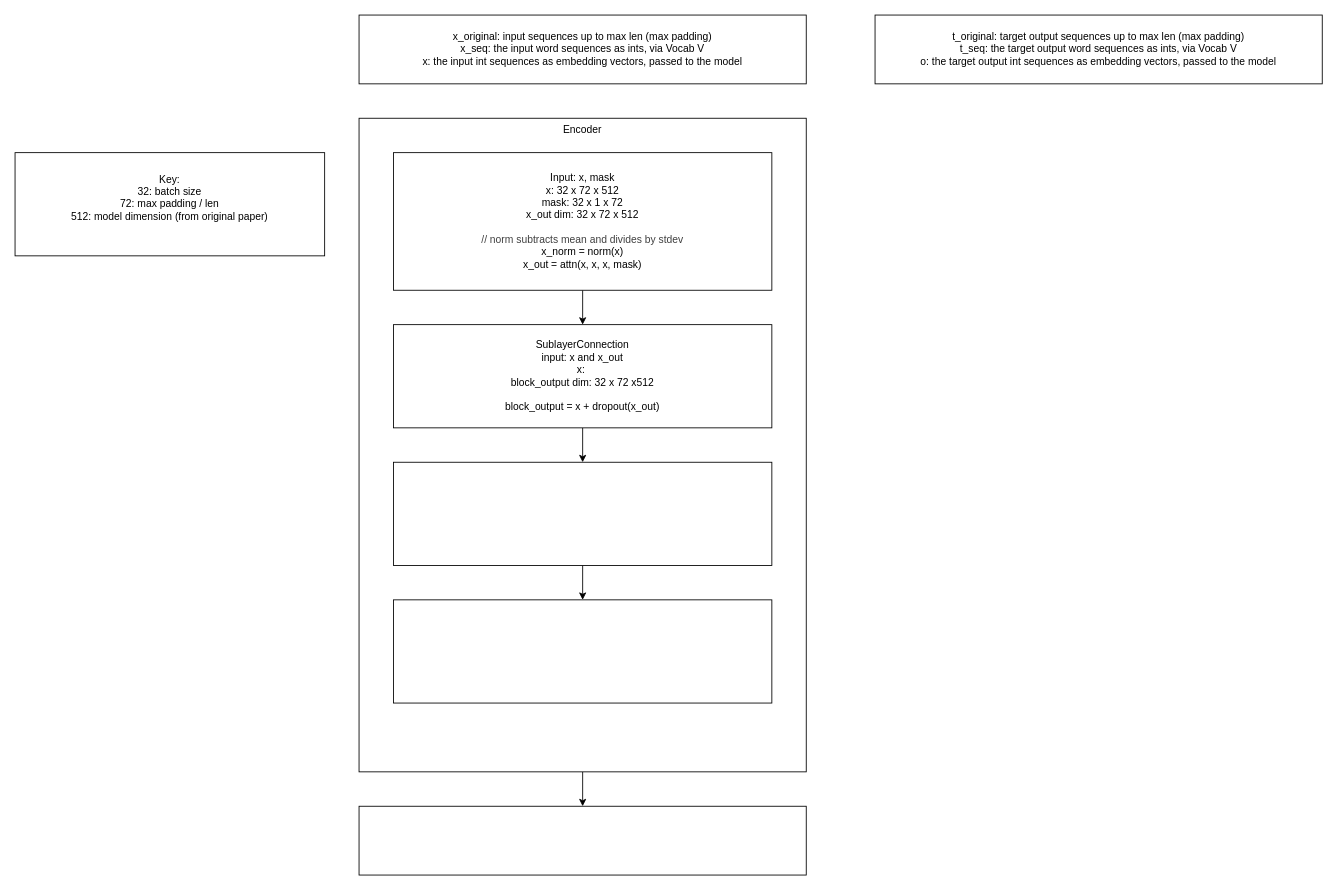
This 1337x890 diagram has some shape labels left out. The shapes that lost their labels are listed below. From the top down, each one's centre as x and y in pixels, then its label:
the point at 582,513: Feedforward Network input: x x dim: 512 hidden layer dim: 2048 output dim: 512
the point at 582,651: SublayerConnection input: x and x_out x: block_output = x + dropout(x_out)
the point at 582,840: Output: "memory" Dim: 32 x 72 x 512 (b x max_len x d_model)
